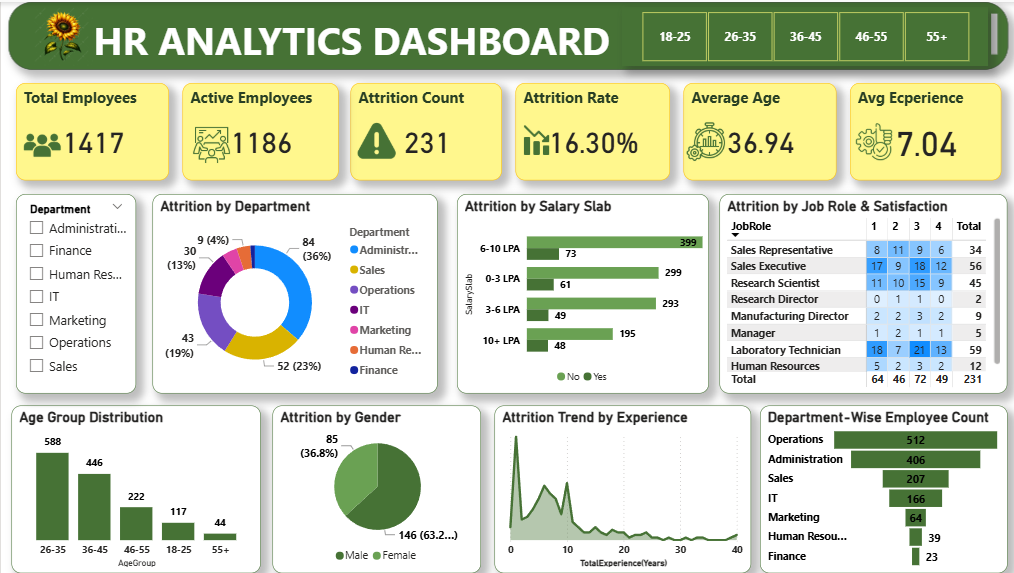

The page's visual inventory and layout, read from the dashboard file:
{"tool":"powerbi","page":{"name":"Page 1","canvas":[1280,720],"ordinal":0},"visuals":[{"type":"textbox","box":[10,0,1259,85],"z":0},{"type":"image","box":[33.6,0,87.7,84.8],"z":1000},{"type":"card","title":"Total Employees","fields":{"Values":["CountNonNull(HR_Analytics-4.EmpID)"]},"box":[18.7,102.1,192.8,122.8],"z":2000},{"type":"card","title":"Avg Ecperience","fields":{"Values":["Avg(HR_Analytics-4.YearsatCompany)"]},"box":[1069.4,102.1,190.9,122.8],"z":3000},{"type":"card","title":"Average Age","fields":{"Values":["Avg(HR_Analytics-4.Age)"]},"box":[860,102.1,192.8,122.8],"z":4000},{"type":"card","title":"Attrition Rate","fields":{"Values":["HR_Analytics-4.Attrition Rate %"]},"box":[648.7,102.1,194.6,122.8],"z":5000},{"type":"card","title":"Attrition Count","fields":{"Values":["Sum(HR_Analytics-4.AttritionCount)"]},"box":[441.2,102.1,190.9,122.8],"z":6000},{"type":"card","title":"Active Employees","fields":{"Values":["CountNonNull(HR_Analytics-4.EmployeeCount)"]},"box":[228,102.1,196.5,122.8],"z":7000},{"type":"image","box":[434.6,145.5,77.5,58.6],"z":8000},{"type":"image","box":[226.8,151.2,77.5,58.6],"z":9000},{"type":"image","box":[13.2,151.2,77.5,58.6],"z":10000},{"type":"image","box":[638.7,147.4,71.8,52.9],"z":11000},{"type":"image","box":[1063.9,147.4,71.8,56.7],"z":12000},{"type":"image","box":[852.3,145.5,71.8,60.5],"z":13000},{"type":"donutChart","title":"Attrition by Department","fields":{"Category":["HR_Analytics-4.Department"],"Y":["Sum(HR_Analytics-4.AttritionCount)"]},"box":[190.9,241.9,359.1,251.3],"z":14000},{"type":"clusteredBarChart","title":"Attrition by Salary Slab","fields":{"Category":["HR_Analytics-4.SalarySlab"],"Y":["CountNonNull(HR_Analytics-4.EmpID)"],"Series":["HR_Analytics-4.Attrition"]},"box":[574.5,241.9,317.5,251.3],"z":15000},{"type":"pivotTable","title":"Attrition by Job Role & Satisfaction","fields":{"Rows":["HR_Analytics-4.JobRole"],"Values":["Sum(HR_Analytics-4.AttritionCount)"],"Columns":["HR_Analytics-4.JobSatisfaction"]},"box":[905.2,242.1,362.8,251.3],"z":16000},{"type":"columnChart","title":"Age Group Distribution","fields":{"Category":["HR_Analytics-4.AgeGroup"],"Y":["Sum(HR_Analytics-4.EmployeeCount)"]},"box":[13.2,508.4,313.7,211.7],"z":17000},{"type":"pieChart","title":"Attrition by Gender","fields":{"Category":["HR_Analytics-4.Gender"],"Y":["Sum(HR_Analytics-4.AttritionCount)"]},"box":[342,508.4,262.7,211.7],"z":18000},{"type":"areaChart","title":"Attrition Trend by Experience","fields":{"Y":["Sum(HR_Analytics-4.AttritionCount)"],"Category":["HR_Analytics-4.TotalExperience(Years)"]},"box":[621.7,508.4,323.2,211.7],"z":19000},{"type":"funnel","title":"Department-Wise Employee Count","fields":{"Category":["HR_Analytics-4.Department"],"Y":["CountNonNull(HR_Analytics-4.EmpID)"]},"box":[956.2,508.4,311.8,211.7],"z":20000},{"type":"slicer","fields":{"Values":["HR_Analytics-4.Department"]},"box":[18.9,241.9,151.2,251.3],"z":21000},{"type":"slicer","fields":{"Values":["HR_Analytics-4.AgeGroup"]},"box":[782.4,5.7,461.1,75.6],"z":22000}]}

Visuals, with their boxes in screenshot pixels (x1, y1, x2, y2), scaled from the page's 1280x720 canvas onto the 1014x573 screenshot:
textbox: (x1=8, y1=0, x2=1005, y2=68)
image: (x1=27, y1=0, x2=96, y2=67)
"Total Employees" card: (x1=15, y1=81, x2=168, y2=179)
"Avg Ecperience" card: (x1=847, y1=81, x2=998, y2=179)
"Average Age" card: (x1=681, y1=81, x2=834, y2=179)
"Attrition Rate" card: (x1=514, y1=81, x2=668, y2=179)
"Attrition Count" card: (x1=350, y1=81, x2=501, y2=179)
"Active Employees" card: (x1=181, y1=81, x2=336, y2=179)
image: (x1=344, y1=116, x2=406, y2=162)
image: (x1=180, y1=120, x2=241, y2=167)
image: (x1=10, y1=120, x2=72, y2=167)
image: (x1=506, y1=117, x2=563, y2=159)
image: (x1=843, y1=117, x2=900, y2=162)
image: (x1=675, y1=116, x2=732, y2=164)
"Attrition by Department" donutChart: (x1=151, y1=193, x2=436, y2=393)
"Attrition by Salary Slab" clusteredBarChart: (x1=455, y1=193, x2=707, y2=393)
"Attrition by Job Role & Satisfaction" pivotTable: (x1=717, y1=193, x2=1004, y2=393)
"Age Group Distribution" columnChart: (x1=10, y1=405, x2=259, y2=572)
"Attrition by Gender" pieChart: (x1=271, y1=405, x2=479, y2=572)
"Attrition Trend by Experience" areaChart: (x1=493, y1=405, x2=749, y2=572)
"Department-Wise Employee Count" funnel: (x1=757, y1=405, x2=1004, y2=572)
slicer - HR_Analytics-4.Department: (x1=15, y1=193, x2=135, y2=393)
slicer - HR_Analytics-4.AgeGroup: (x1=620, y1=5, x2=985, y2=65)
